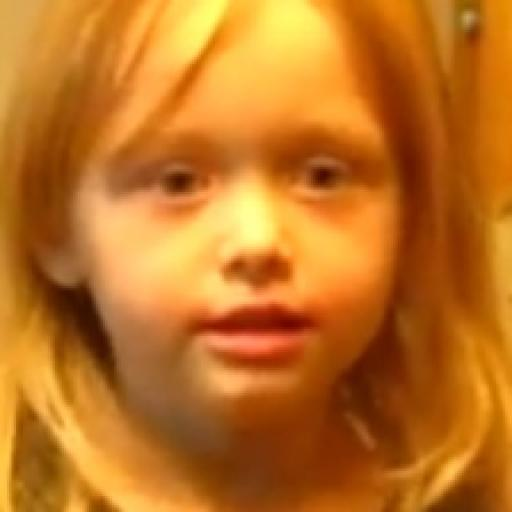Autism: (43, 14, 512, 475)
